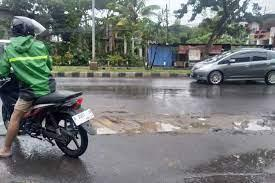Pothole: (90, 103, 275, 147)
